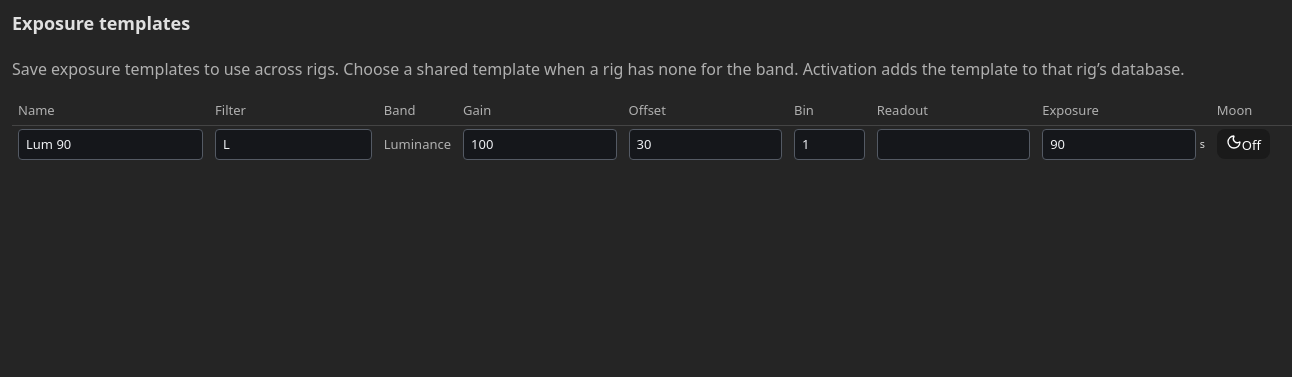
Test: Template library › is read only without write access
Expected: the field showing "Lum 90" is disabled, top-left (18, 128), bottom-right (203, 160)
Click the button with aria-label "Moon settings for Lum 90" at (1243,144), box top-left (1217, 129), bottom-right (1270, 159)
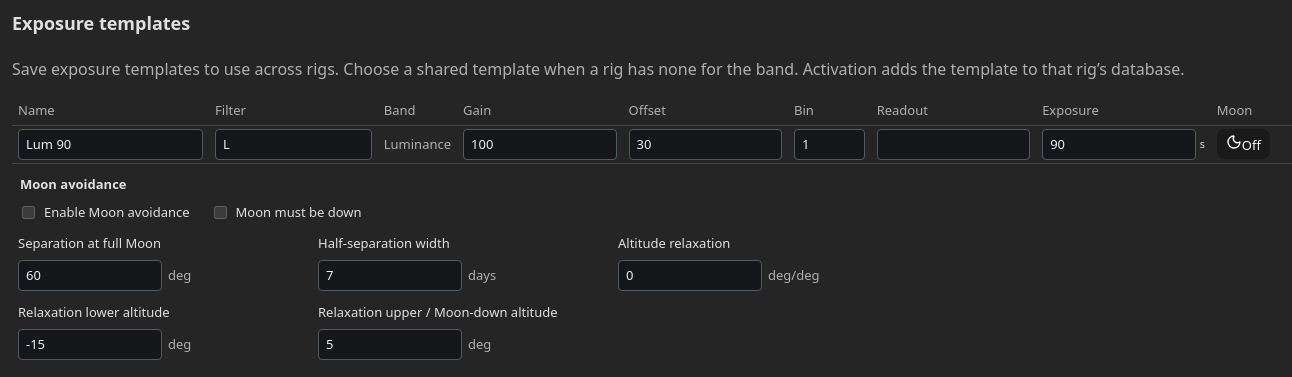
Expected: the checkbox labelled "Enable Moon avoidance" is disabled, top-left (22, 206), bottom-right (35, 219)
